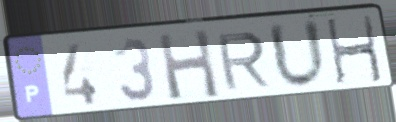3: (110, 35, 158, 105)
4: (61, 41, 101, 109)
H: (154, 26, 223, 102), (324, 13, 387, 88)
R: (213, 29, 273, 93)
U: (264, 16, 330, 92)
